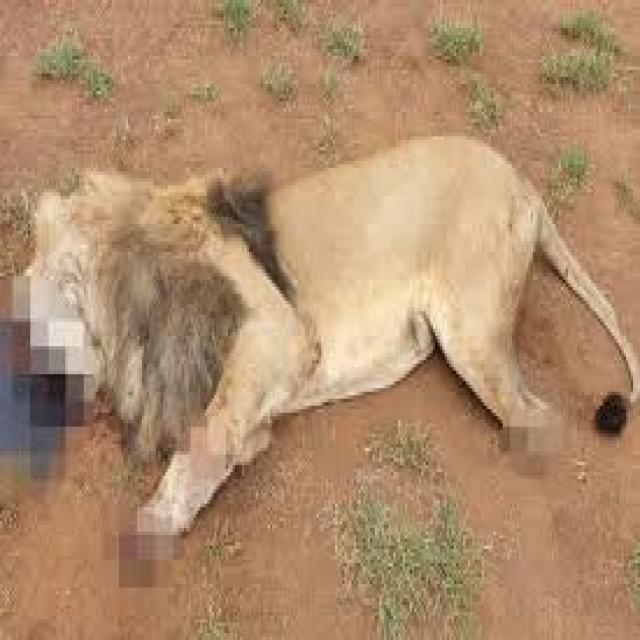Lion: (45, 132, 637, 535)
